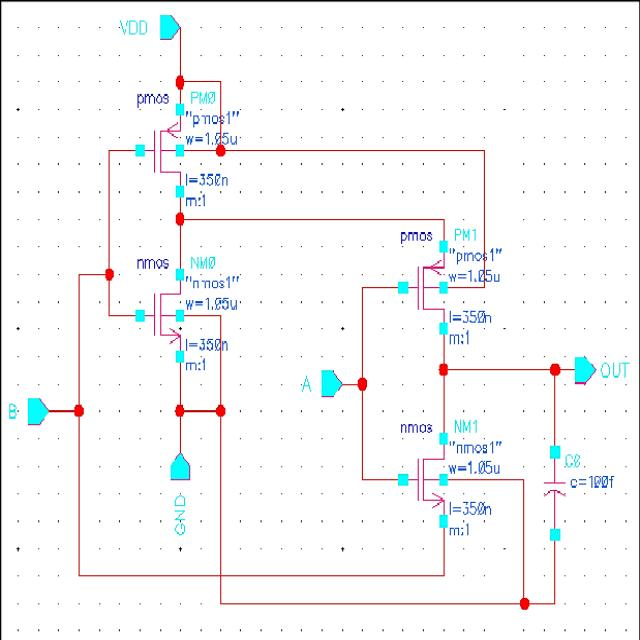cap: (537, 444, 572, 539)
nmos: (395, 417, 451, 526), (134, 253, 188, 365)
pmos: (392, 226, 451, 332), (132, 88, 187, 198)
